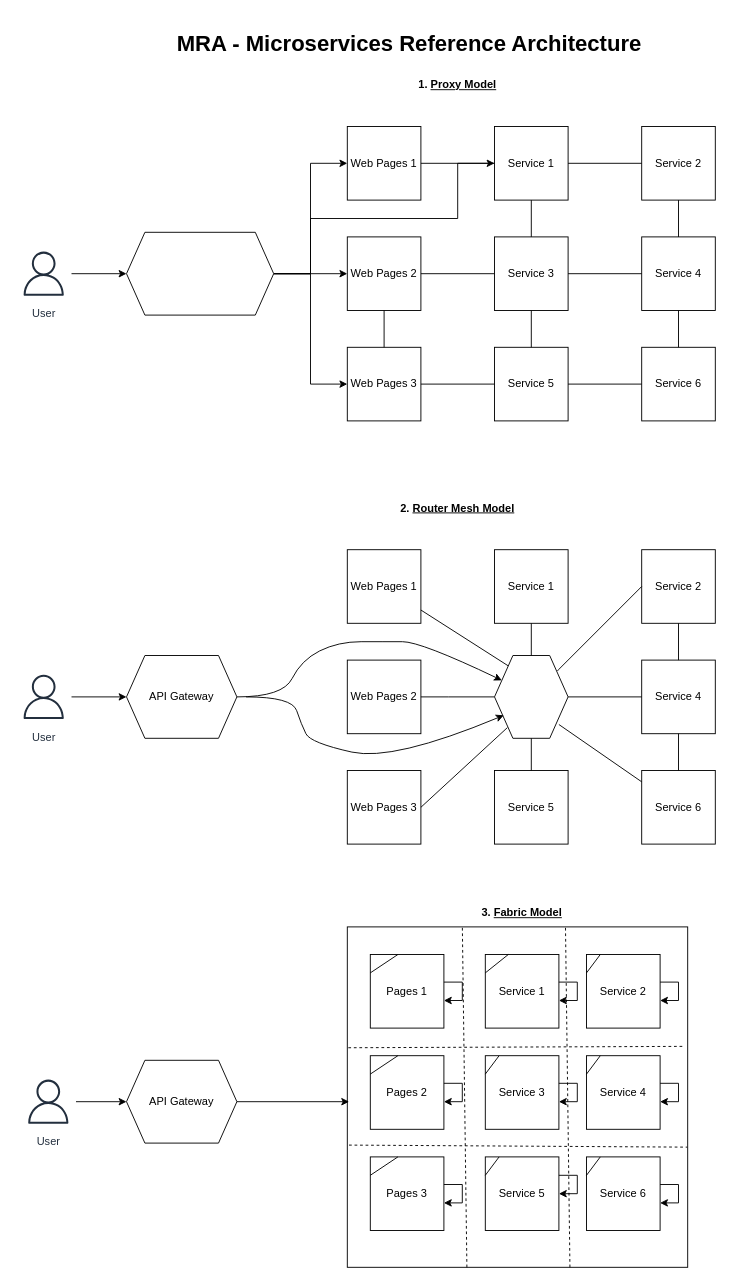
This 731x1284 diagram has some shape labels left out. The centre of each missing label's shape, as x and y in pixels:
"API Gateway/Proxy/Router" belongs at (x=200, y=273).
"Router" belongs at (x=531, y=696).
